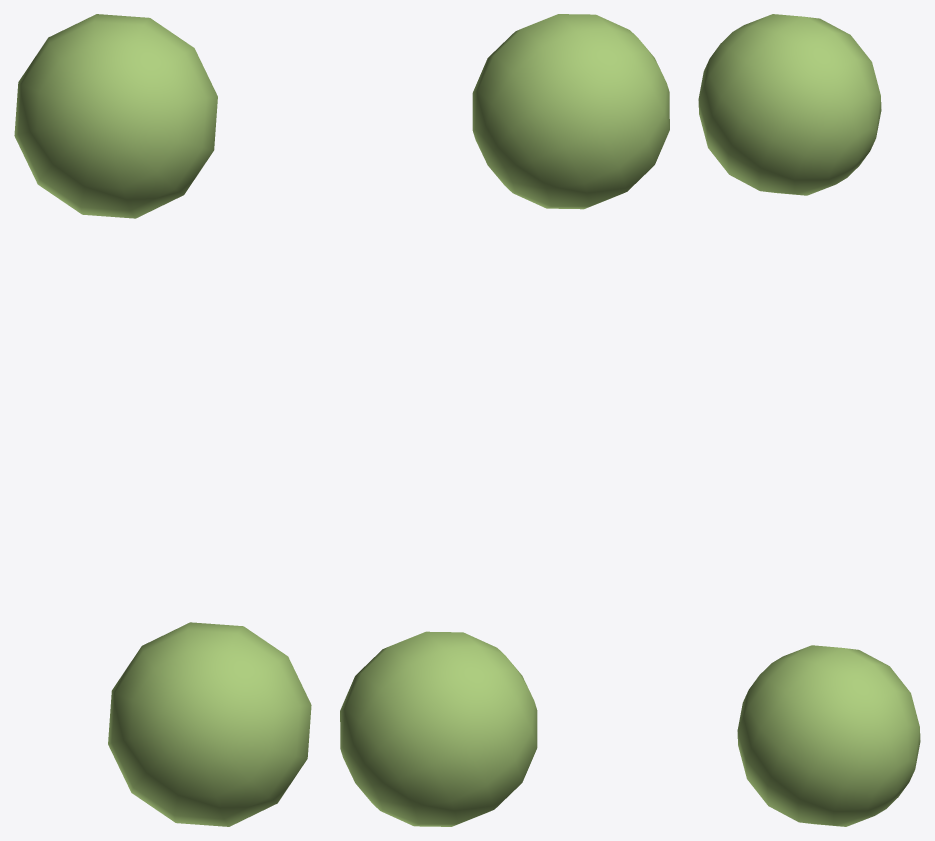
The model's file is thyroid-nodes-r.glb.
The picture shows the model from 3 angles, left to right: view 1: azimuth 30°, elevation 25°; view 2: azimuth 150°, elevation 25°; view 3: azimuth 270°, elevation 25°; orthographic projection. The views are drawn at different scales.
Visible parts, largest first — view 1: Thyroid nodes.r; view 2: Thyroid nodes.r; view 3: Thyroid nodes.r.
Part boxes in pixels (left/top/right/bottom): Thyroid nodes.r: left=14, top=14, right=311, bottom=826; Thyroid nodes.r: left=340, top=14, right=669, bottom=826; Thyroid nodes.r: left=698, top=14, right=920, bottom=826.
Bounding box in the file's own units: 0.00422 × 0.0115 × 0.00311.
